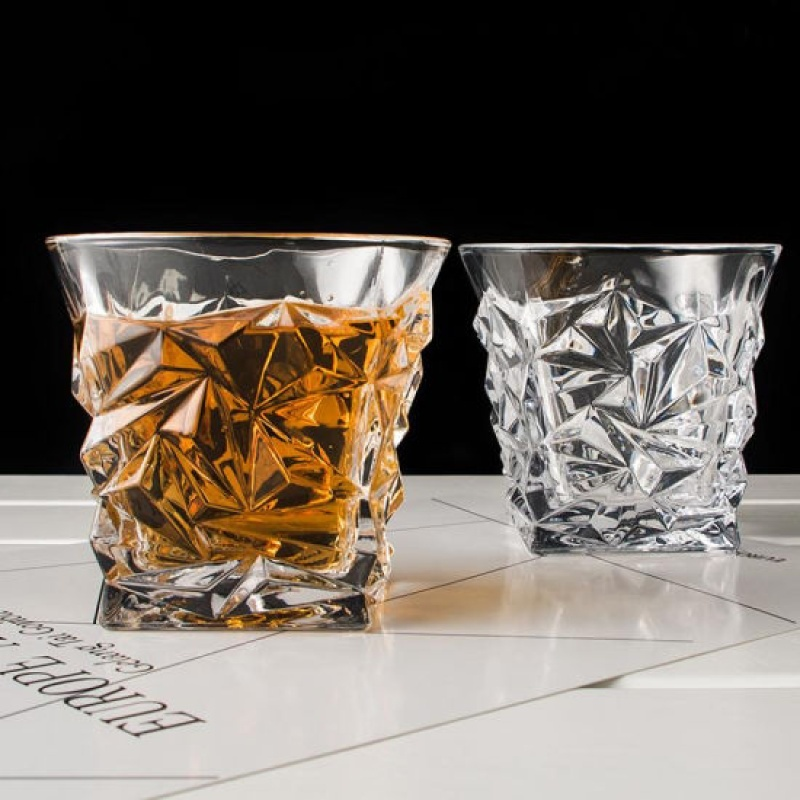whiskey: (32, 218, 439, 638)
